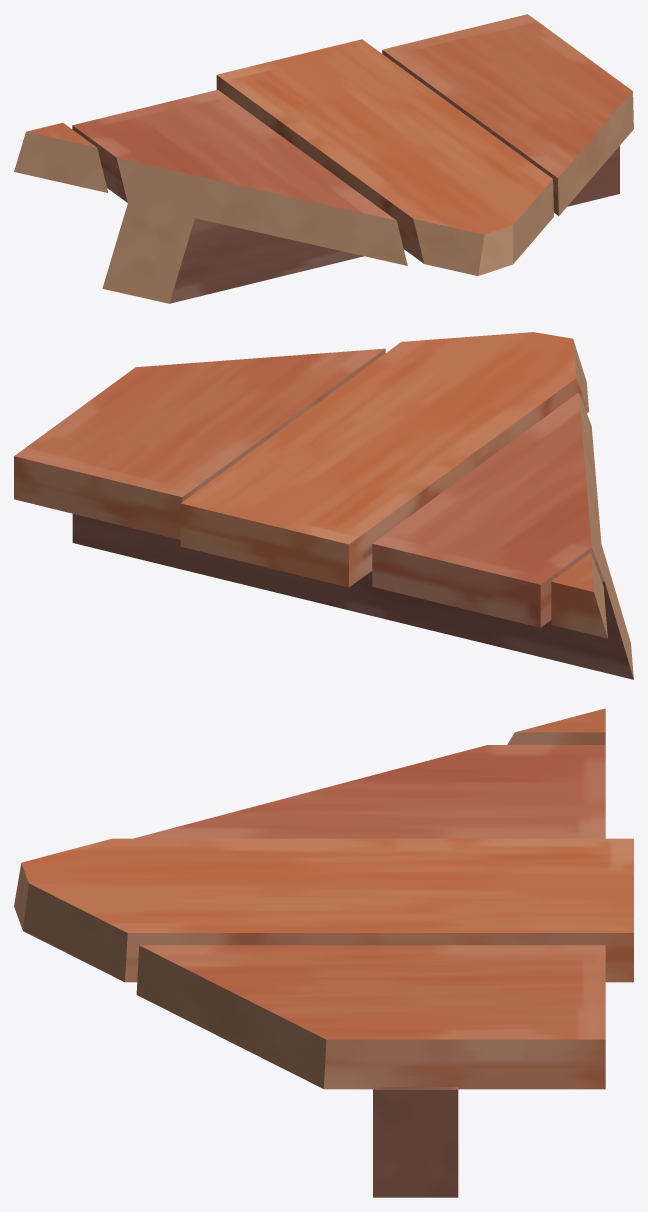
Rendered from plank_s02.fbx.
The picture shows the model from 3 angles, top to bottom: view 1: azimuth 30°, elevation 25°; view 2: azimuth 150°, elevation 25°; view 3: azimuth 270°, elevation 25°; orthographic projection. The views are drawn at different scales.
Parts seen in each view (by area): view 1: plank_s02; view 2: plank_s02; view 3: plank_s02.
Boxes of the visible parts, x1,y1,x2,y2 form: plank_s02: (14,14,633,303); plank_s02: (14,332,633,679); plank_s02: (14,708,633,1197).
Bounding box in the file's own units: 3.35 × 0.75 × 2.61.
